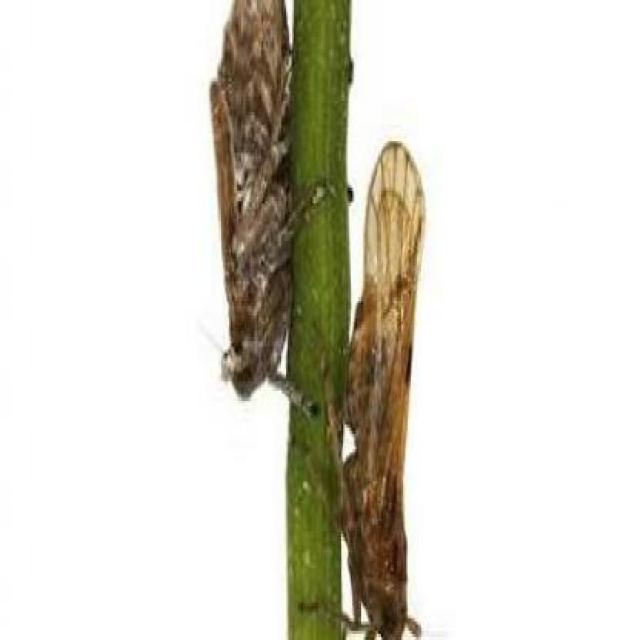brown-planthopper: (338, 134, 430, 638), (202, 0, 290, 406)
